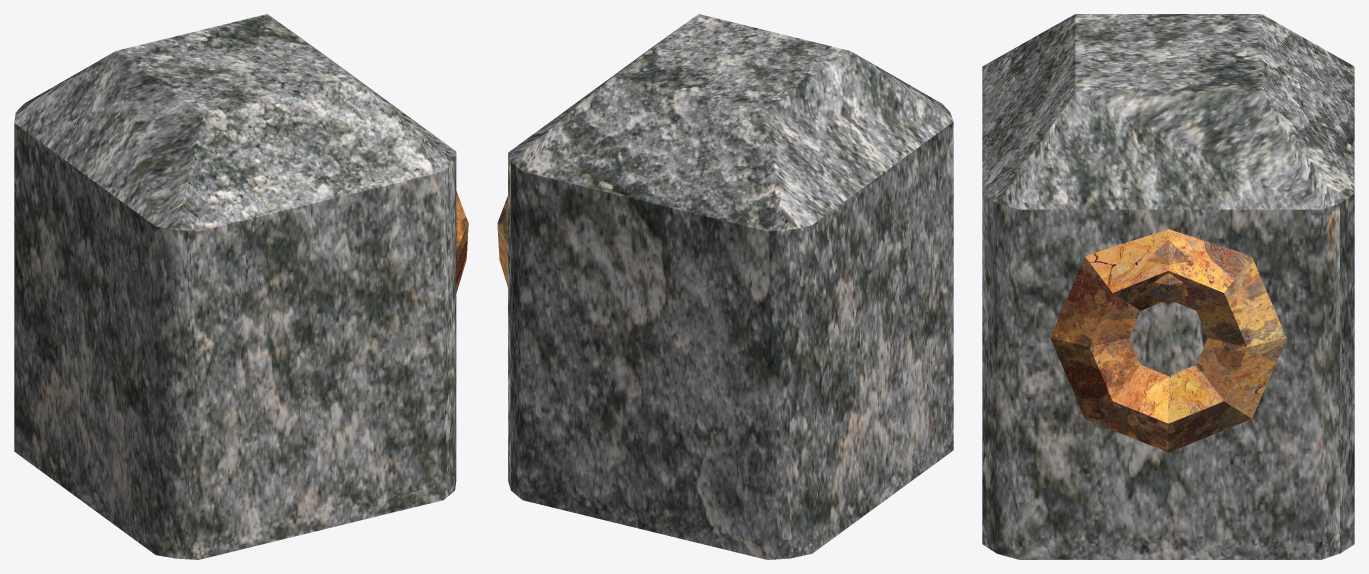
File: StonePillar.fbx
3 renders of one model, left to right at view 1: azimuth 30°, elevation 25°; view 2: azimuth 150°, elevation 25°; view 3: azimuth 270°, elevation 25°, orthographic. The views are drawn at different scales.
Parts seen in each view (by area): view 1: pCube1, pTorus1; view 2: pCube1, pTorus1; view 3: pCube1, pTorus1, pTorus2.
Boxes of the visible parts, left/top/right/bottom form: pCube1: left=14, top=14, right=456, bottom=559; pTorus1: left=456, top=191, right=468, bottom=292; pCube1: left=508, top=14, right=953, bottom=559; pTorus1: left=497, top=196, right=507, bottom=286; pCube1: left=982, top=14, right=1354, bottom=559; pTorus1: left=1050, top=229, right=1286, bottom=452; pTorus2: left=1146, top=240, right=1190, bottom=304.
Size of the model in its own units: 1.29 by 1.38 by 1.09.
